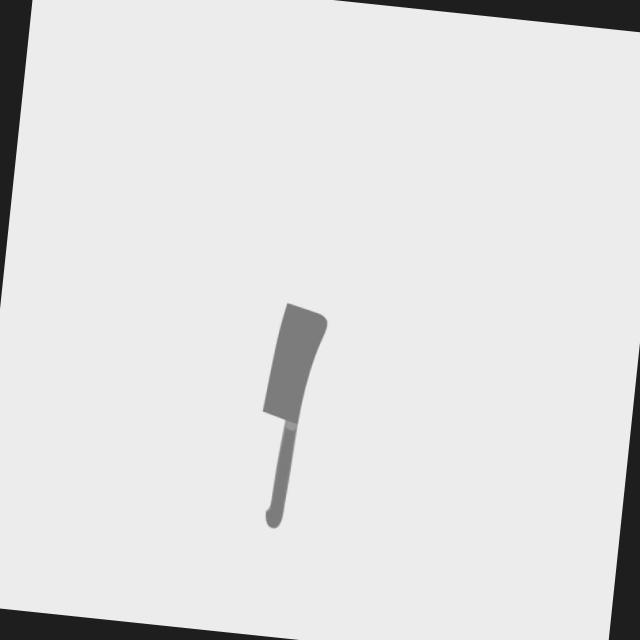knife: (264, 418, 296, 528)
